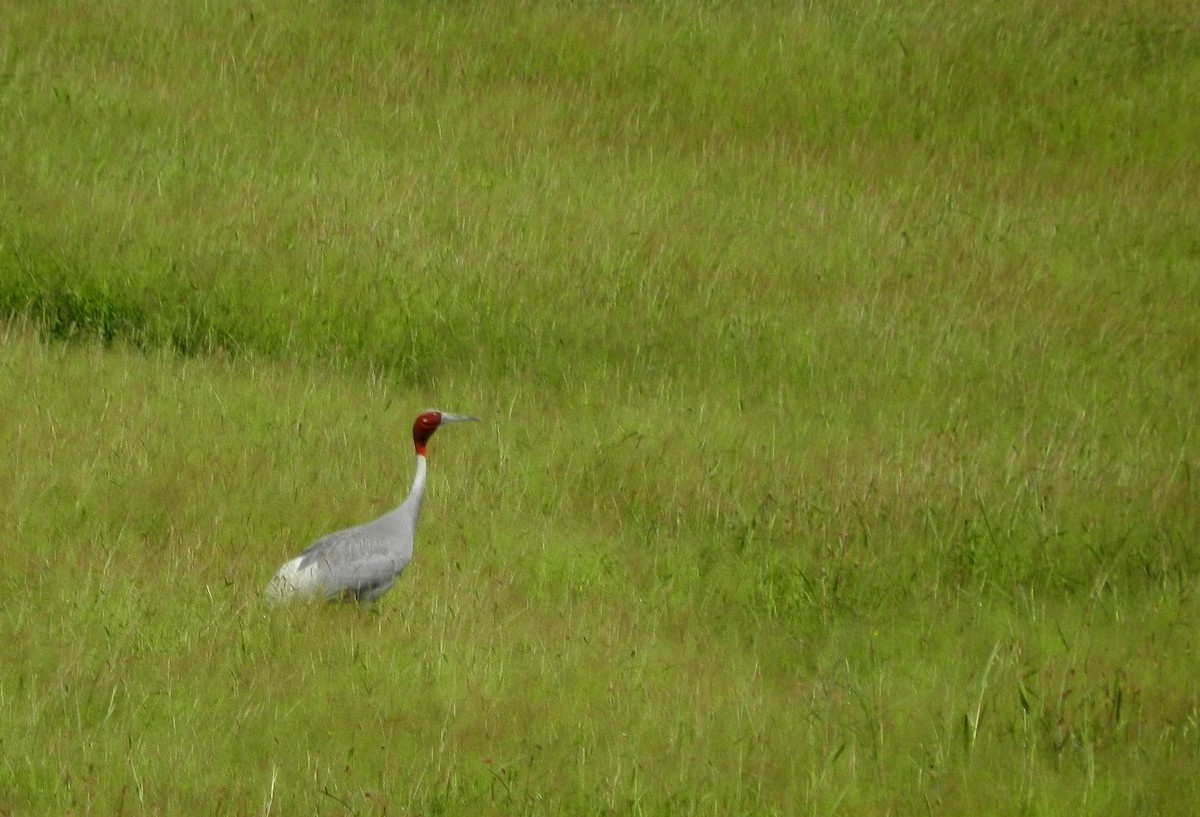crane: (282, 394, 491, 620)
